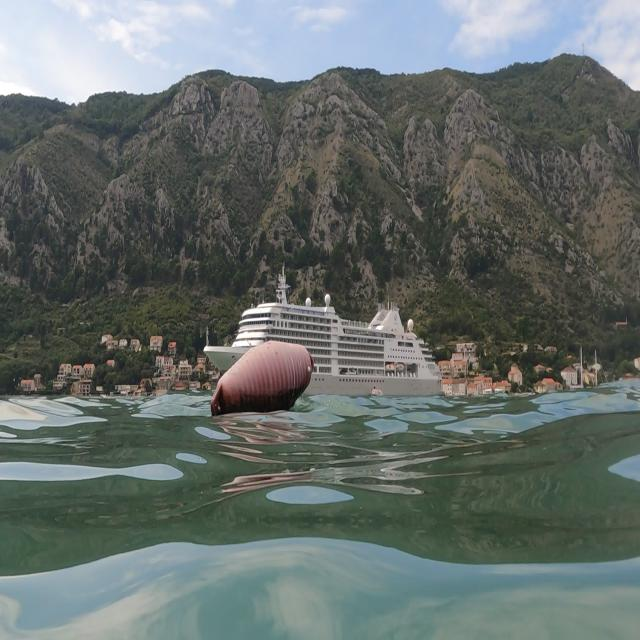boat: (201, 259, 445, 408)
buoy: (203, 339, 323, 423)
